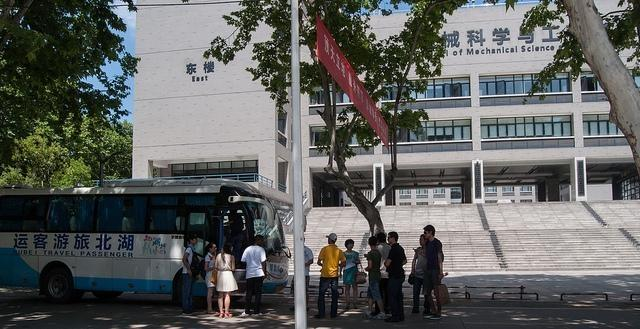bus: (2, 180, 290, 305)
